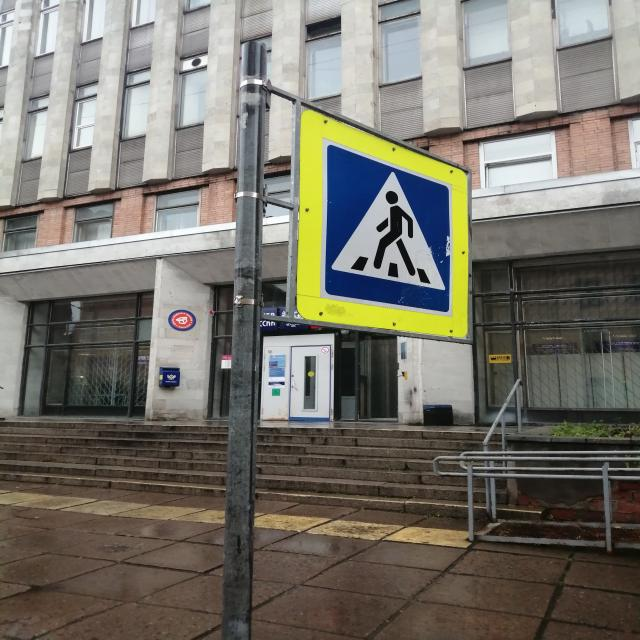road sign: (291, 110, 470, 342)
